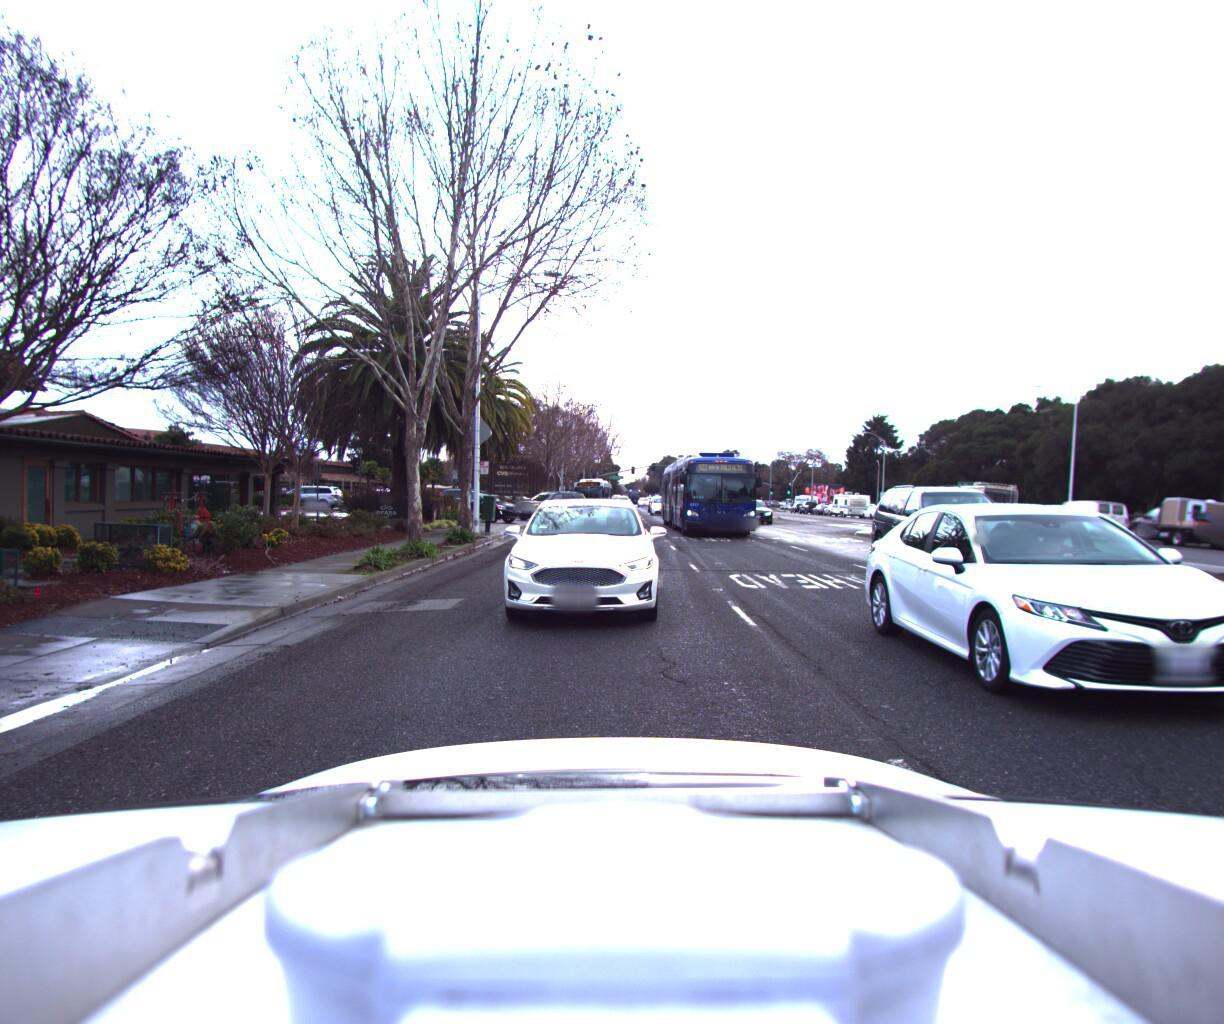bus: (655, 451, 774, 550)
car: (854, 504, 1224, 741), (479, 473, 662, 647), (868, 478, 1040, 579), (1117, 495, 1224, 553), (1042, 499, 1133, 545), (432, 491, 523, 529), (506, 491, 586, 525), (732, 498, 778, 533), (648, 497, 676, 521)
other_vehicle: (930, 482, 1025, 535)
